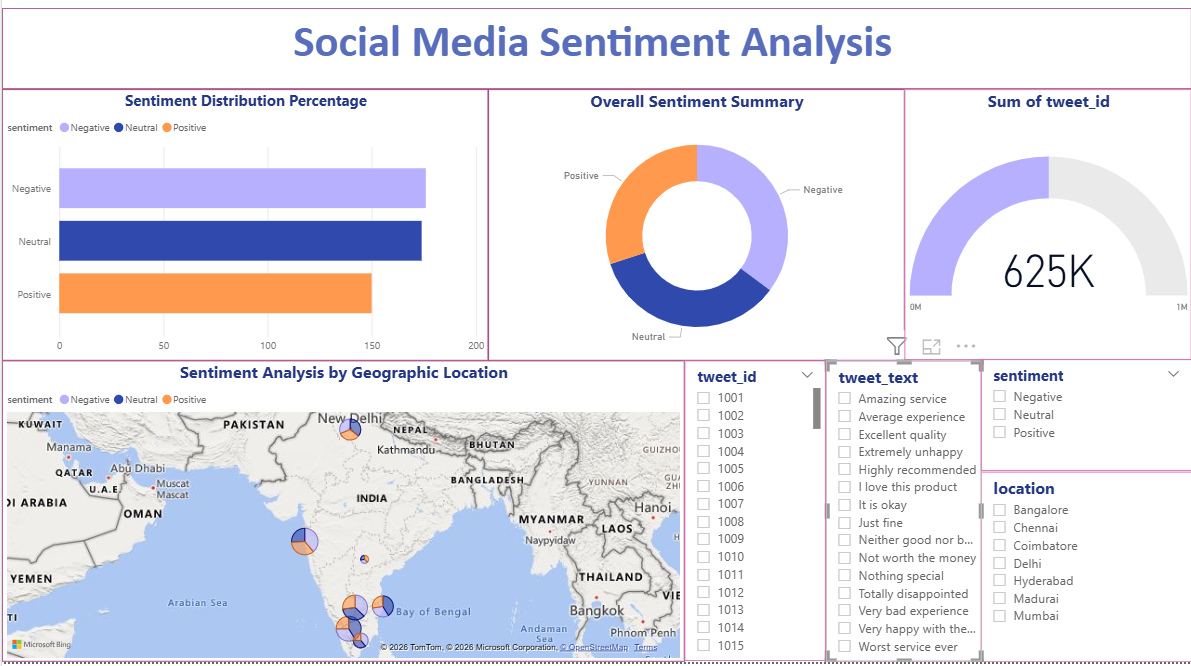

What the dashboard file says about the page in this screenshot:
{"tool":"powerbi","page":{"name":"Page 1","canvas":[1280,720],"ordinal":0},"visuals":[{"type":"donutChart","fields":{"Category":["social_media_db social_media_sentiment_500_rows.sentiment"],"Y":["CountNonNull(social_media_db social_media_sentiment_500_rows.sentiment)"]},"box":[734.3,103.6,546,291.8],"z":0},{"type":"map","fields":{"Category":["social_media_db social_media_sentiment_500_rows.location"],"Size":["Sum(social_media_db social_media_sentiment_500_rows.tweet_id)"],"Series":["social_media_db social_media_sentiment_500_rows.sentiment"]},"box":[0,395.4,1063.8,324.1],"z":1},{"type":"hundredPercentStackedBarChart","fields":{"Y":["CountNonNull(social_media_db social_media_sentiment_500_rows.location)"],"Category":["social_media_db social_media_sentiment_500_rows.sentiment"],"Series":["social_media_db social_media_sentiment_500_rows.sentiment"]},"box":[0,103.6,734.3,291.8],"z":2},{"type":"cardVisual","fields":{"Rows":["social_media_db social_media_sentiment_500_rows.sentiment"]},"box":[1063.8,395.4,216.5,324.1],"z":3},{"type":"textbox","box":[0,16.1,1280.3,87.4],"z":4}]}

Visuals, with their boxes in screenshot pixels (x1, y1, x2, y2), scaled from the page's 1280x720 canvas onto the 1191x666 screenshot:
donutChart - social_media_db social_media_sentiment_500_rows.sentiment x CountNonNull(social_media_db social_media_sentiment_500_rows.sentiment): {"x1": 683, "y1": 96, "x2": 1190, "y2": 366}
map - social_media_db social_media_sentiment_500_rows.location x Sum(social_media_db social_media_sentiment_500_rows.tweet_id): {"x1": 0, "y1": 366, "x2": 990, "y2": 665}
hundredPercentStackedBarChart - CountNonNull(social_media_db social_media_sentiment_500_rows.location) x social_media_db social_media_sentiment_500_rows.sentiment: {"x1": 0, "y1": 96, "x2": 683, "y2": 366}
cardVisual - social_media_db social_media_sentiment_500_rows.sentiment: {"x1": 990, "y1": 366, "x2": 1190, "y2": 665}
textbox: {"x1": 0, "y1": 15, "x2": 1190, "y2": 96}
